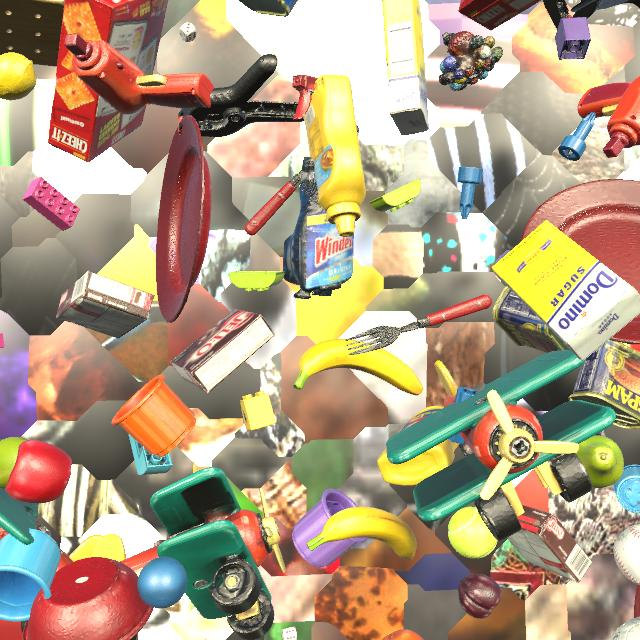ycb_003_cracker_box: (48, 0, 168, 163), (458, 0, 541, 30)
ycb_004_sugar_box: (492, 220, 640, 361), (382, 0, 429, 136)
ycb_006_mustard_bottle: (303, 74, 366, 237), (377, 406, 459, 486)
ycb_008_pudding_box: (170, 309, 275, 393), (56, 270, 155, 339), (507, 504, 593, 583)
ycb_010_potted_meat_can: (568, 340, 640, 429), (492, 286, 569, 353), (239, 0, 298, 17)
ycb_011_banana: (293, 339, 423, 395), (306, 507, 417, 560)
ycb_013_apple: (5, 440, 72, 503)
ycb_014_lemon: (0, 53, 37, 100)
ycb_016_pear: (576, 435, 624, 488), (0, 437, 28, 489)
ycb_017_orange: (382, 629, 423, 640)
ycb_018_plum: (458, 574, 502, 619)
